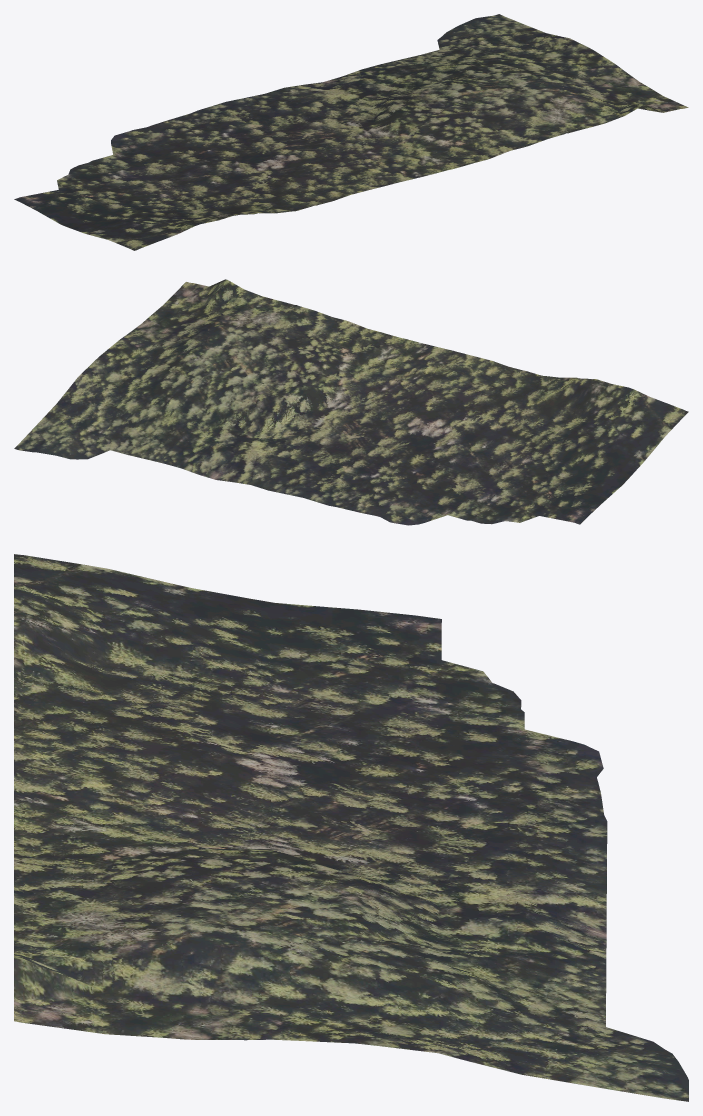
File: CM_Terrain_24490049_6823070.fbx
3 renders of one model, top to bottom at view 1: azimuth 30°, elevation 25°; view 2: azimuth 150°, elevation 25°; view 3: azimuth 270°, elevation 25°, orthographic. The views are drawn at different scales.
Visible parts, largest first — view 1: CM_Terrain_24490049_6823070_LOD0; view 2: CM_Terrain_24490049_6823070_LOD0; view 3: CM_Terrain_24490049_6823070_LOD0.
Boxes of the visible parts, x1,y1,x2,y2 form: CM_Terrain_24490049_6823070_LOD0: [14, 14, 688, 250]; CM_Terrain_24490049_6823070_LOD0: [14, 279, 688, 525]; CM_Terrain_24490049_6823070_LOD0: [14, 554, 688, 1101].
Size of what is drawn, in the model's own units: 205 by 21.9 by 121.
